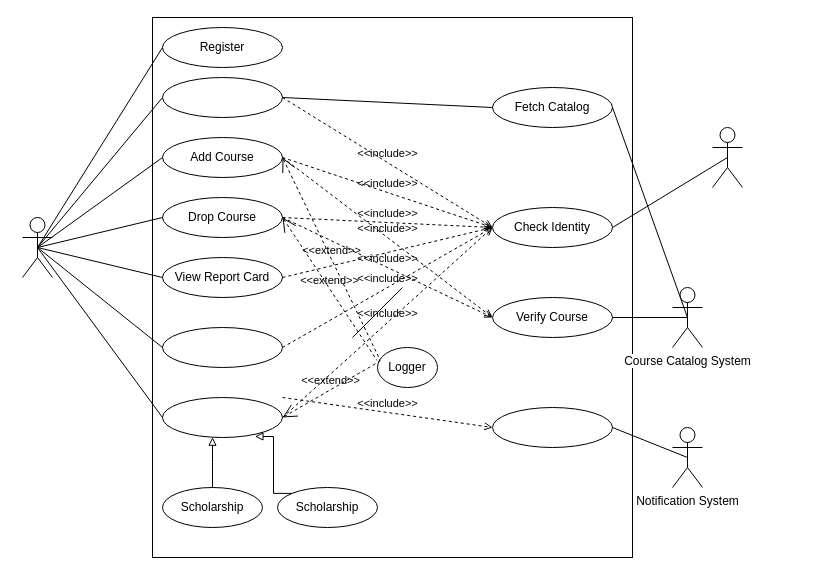
Some shapes in this 813 by 575 pixel diagram are drawn without their labels. The centre of each missing label's shape, as x and y in pixels:
"Author Credential System" goes at [727,157].
"Notify final list" goes at [552,427].
"Pay Bill" goes at [222,417].
"Register schedule" goes at [222,347].
"Request Course Catalog" goes at [222,97].
"Student" goes at [37,247].
